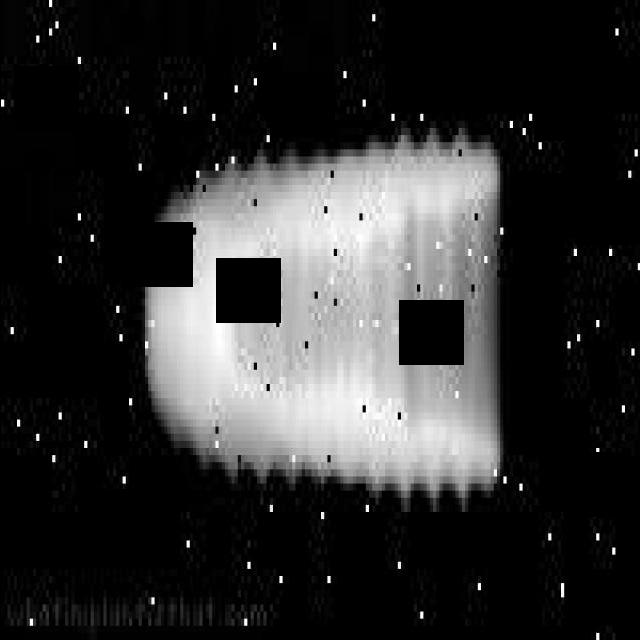Titan Implant Implant: (136, 120, 504, 509)
